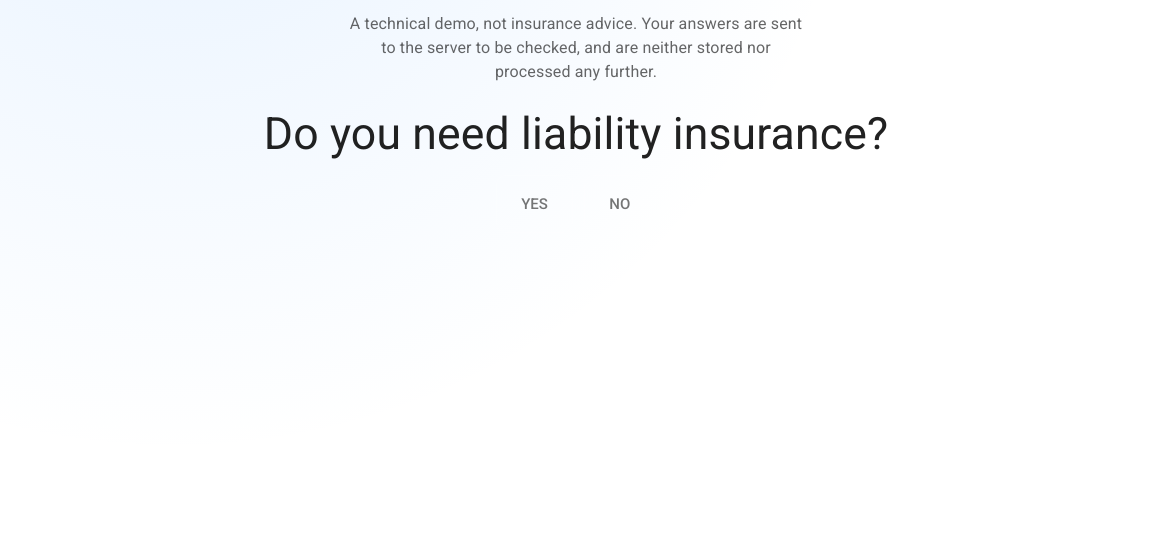
InsuranceChat › sends one request even when submit is clicked twice in a row
Click the button "Yes".
click(534, 204)  # box [496, 175, 573, 234]
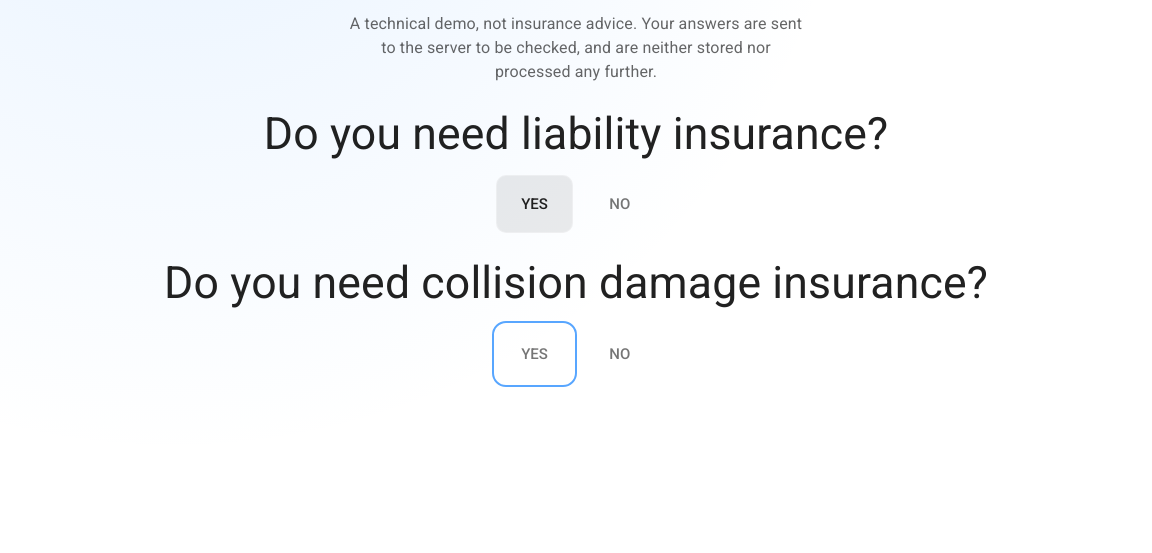
Click the button "Yes" below "Do you need collision damage insurance?".
click(534, 354)  # box [496, 325, 573, 383]
(page scrolled)
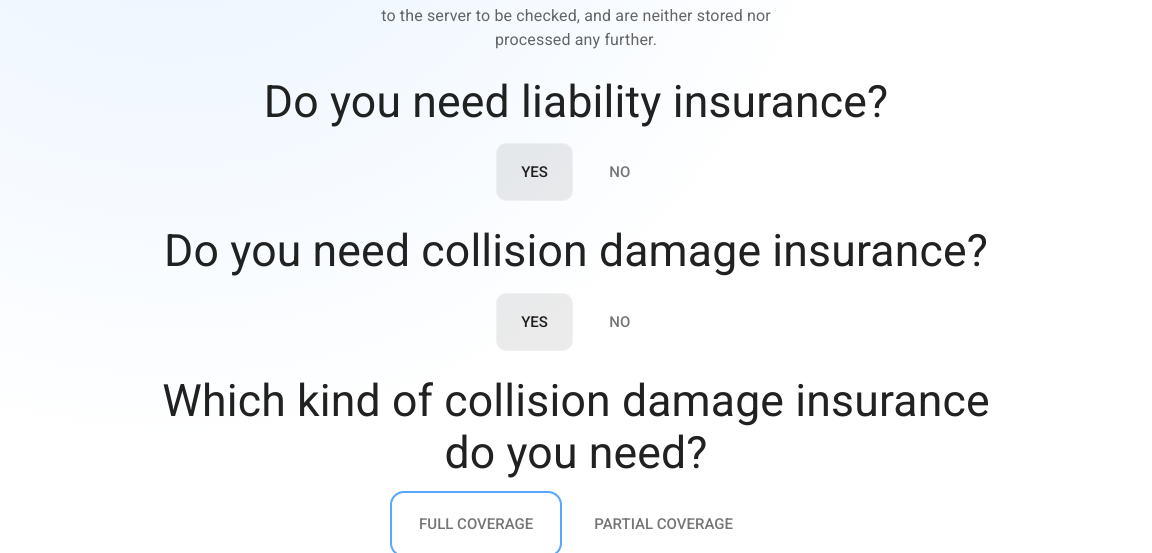
Click the button "Full coverage".
click(476, 524)  # box [394, 495, 558, 552]
(page scrolled)
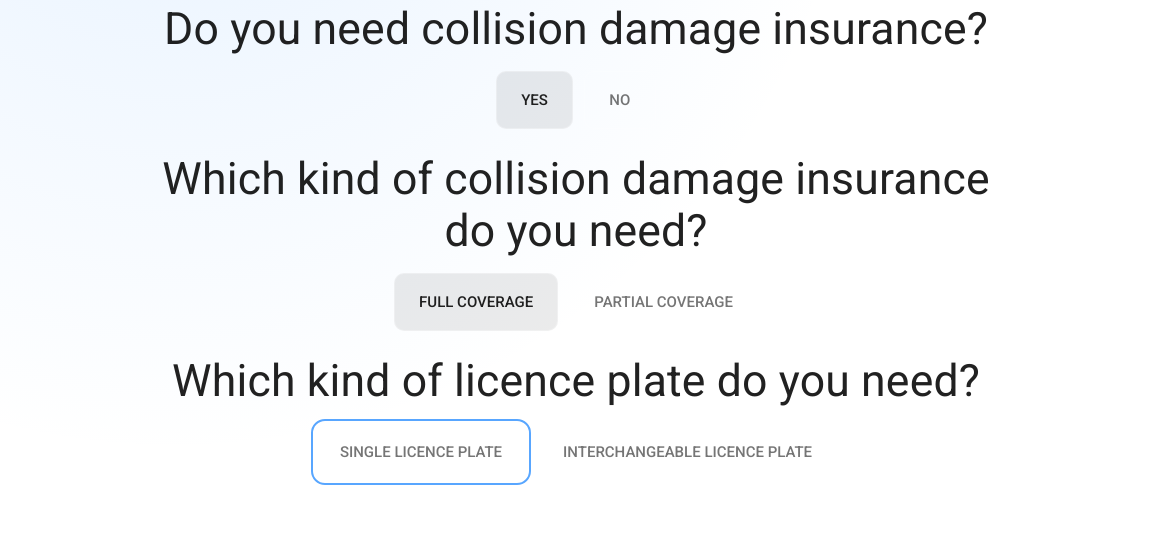
Click the button "Single licence plate".
click(421, 452)  # box [315, 423, 527, 481]
(page scrolled)
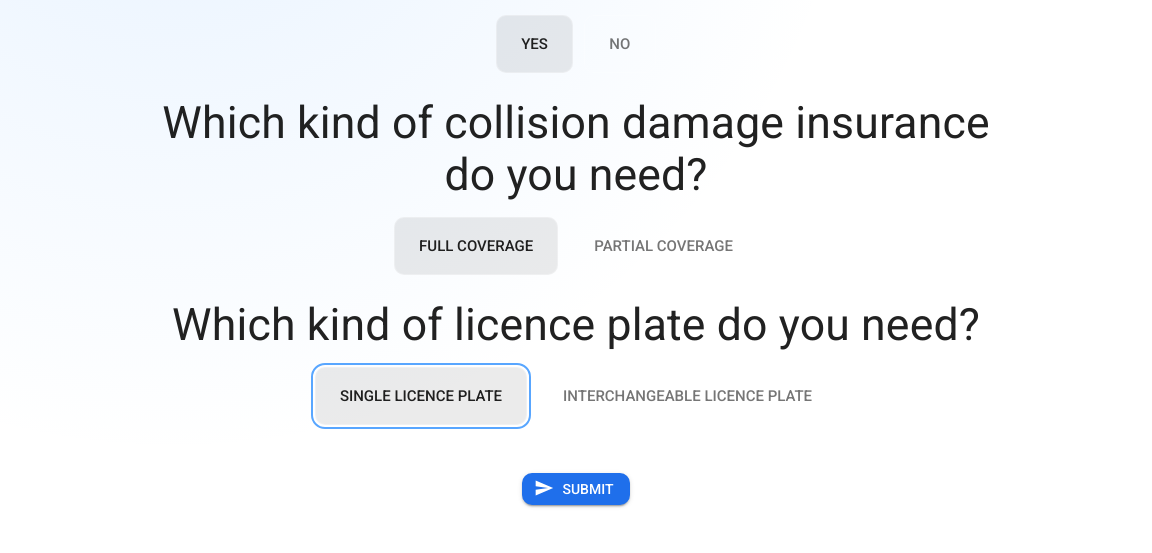
Click the button "Submit".
click(576, 489)  # box [522, 473, 630, 505]
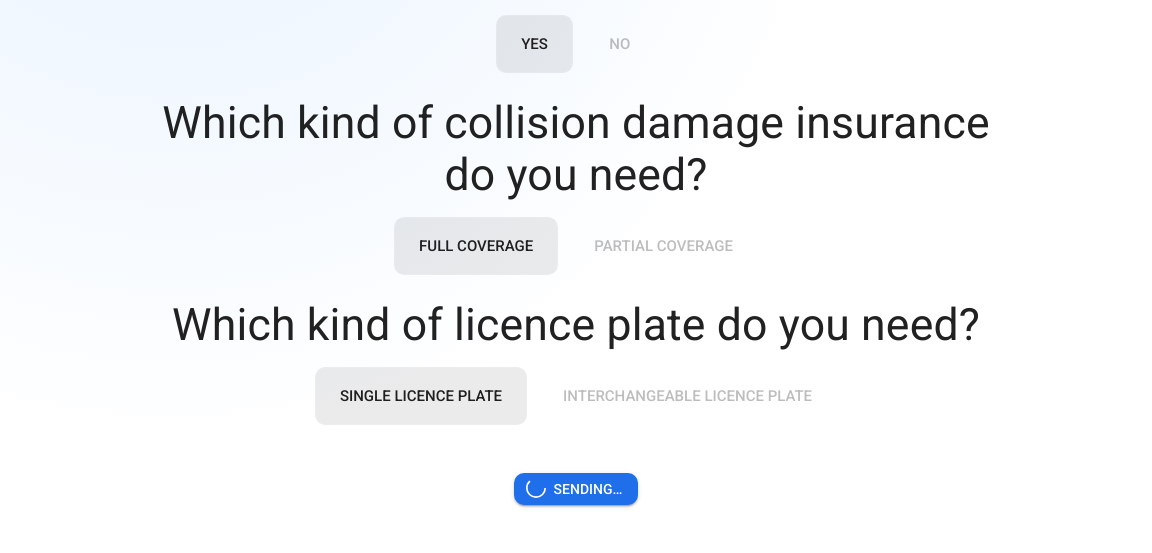
Click the button named "Submit".
click(576, 489)  # box [514, 473, 638, 505]
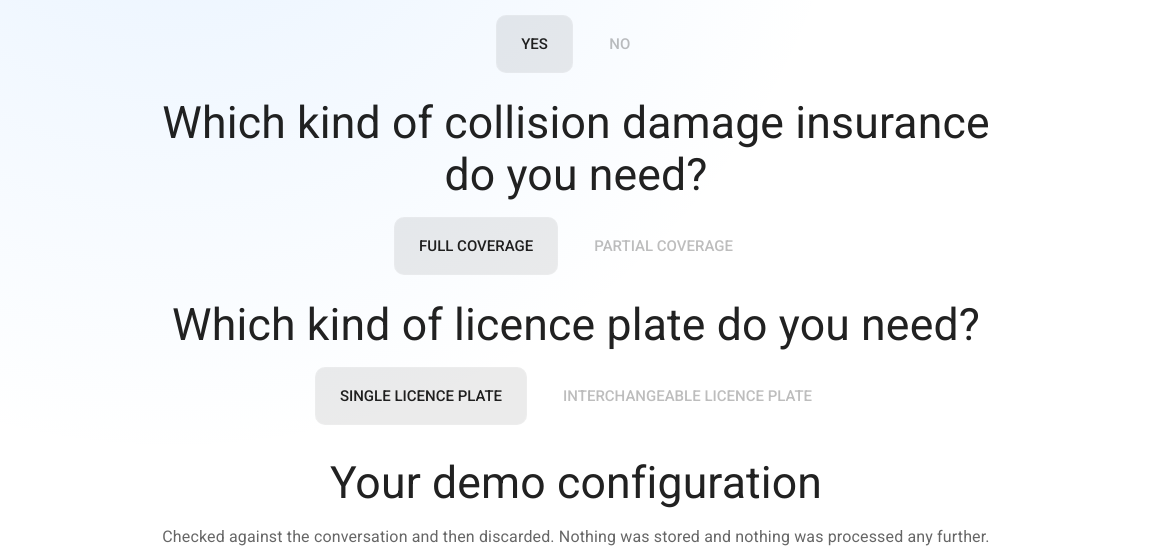
expect the heading "Your demo configuration" is shown: met, box [330, 457, 822, 509]
